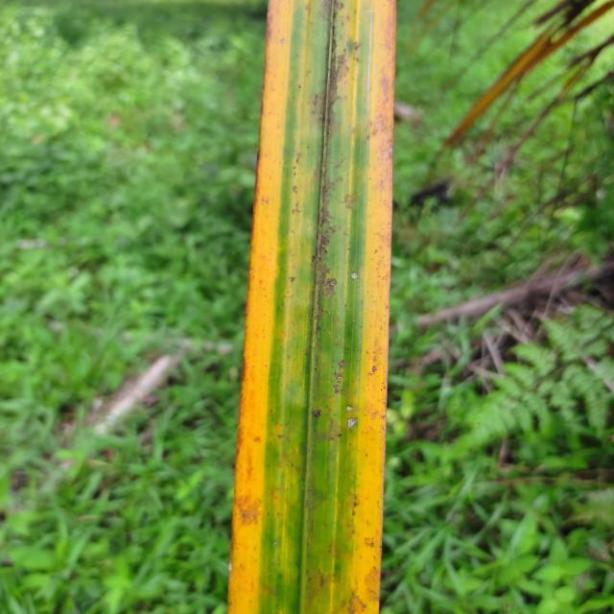Megnesium: (237, 0, 393, 614)
